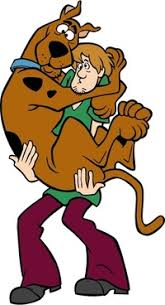scooby: (1, 1, 153, 194)
